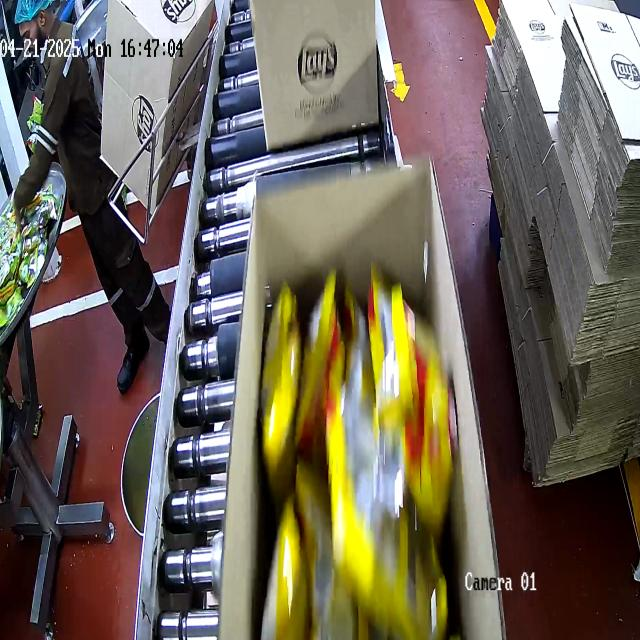SALTED: (254, 265, 452, 640)
